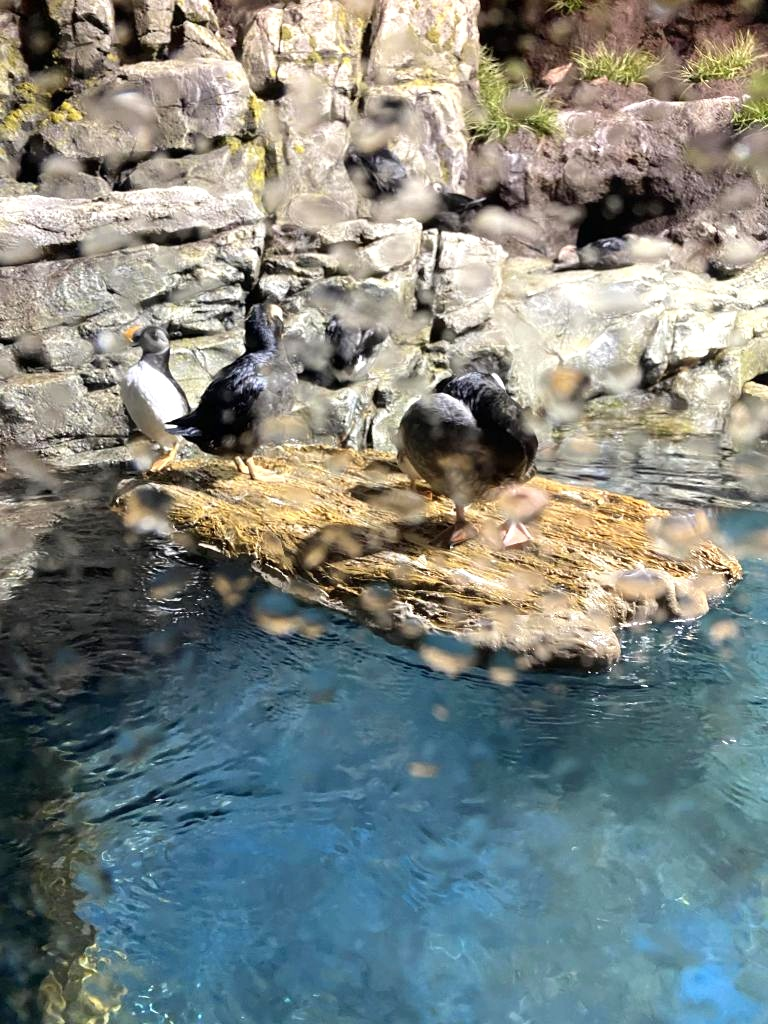puffin: (384, 340, 552, 540), (190, 308, 314, 468), (110, 316, 182, 462)
